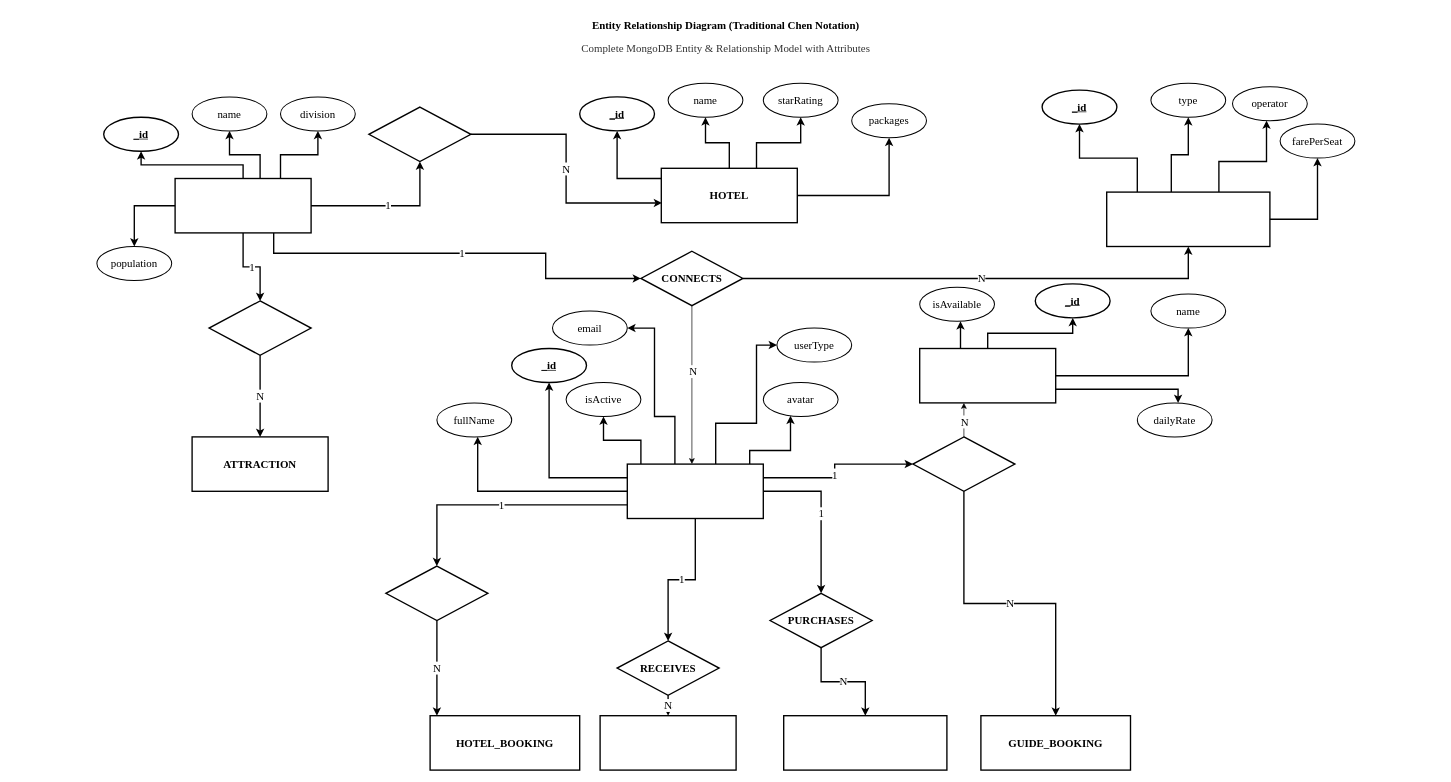
The diagram is 1451 pixels wide and 782 high, and some of its shapes have lost their labels. The shapes that lost their labels are listed below. From the top down, each one's centre as x and y in pixels, then its label:
At (x=419, y=134): "LOCATED_IN".
At (x=242, y=205): "DISTRICT".
At (x=1188, y=219): "TRANSPORTATION".
At (x=259, y=328): "CONTAINS".
At (x=987, y=375): "TOURGUIDE".
At (x=963, y=464): "HIRES".
At (x=695, y=491): "USER".
At (x=436, y=593): "RESERVES".
At (x=667, y=742): "NOTIFICATION".
At (x=865, y=742): "TRANSPORT_BOOKING".
